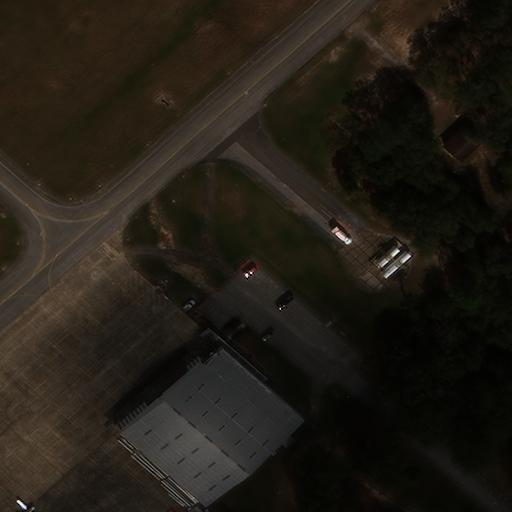Small Civil Transport: (17, 499, 37, 511)
